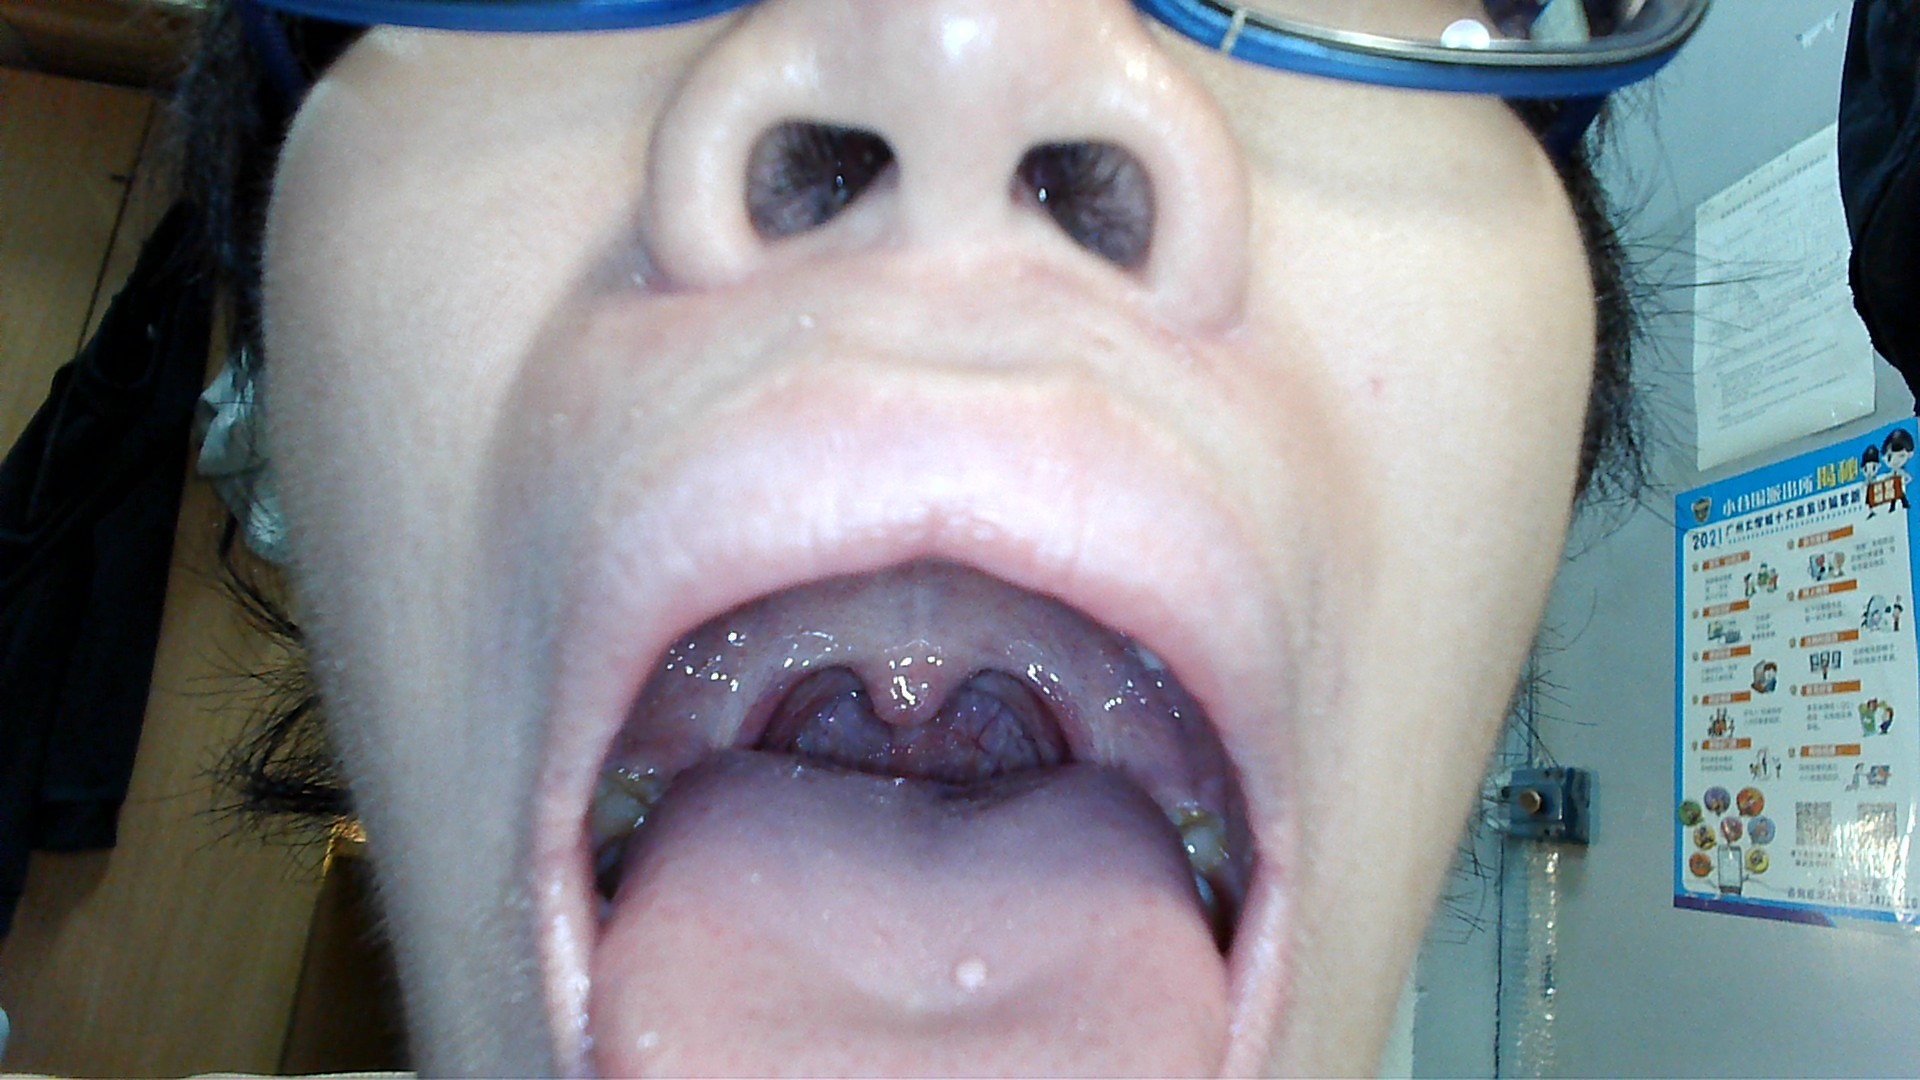throat: (705, 640, 798, 752), (1030, 669, 1114, 760)
